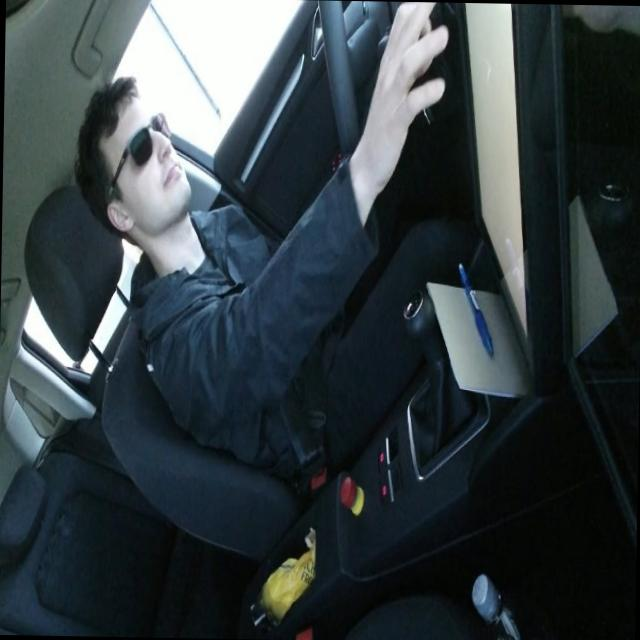pen: (455, 259, 495, 357)
